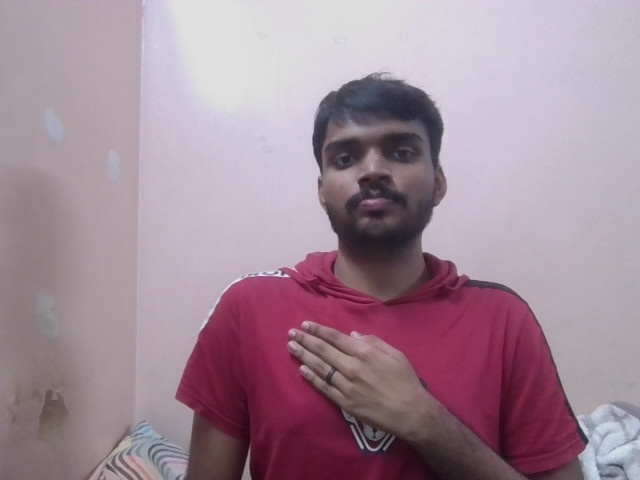Please: (286, 309, 433, 429)
